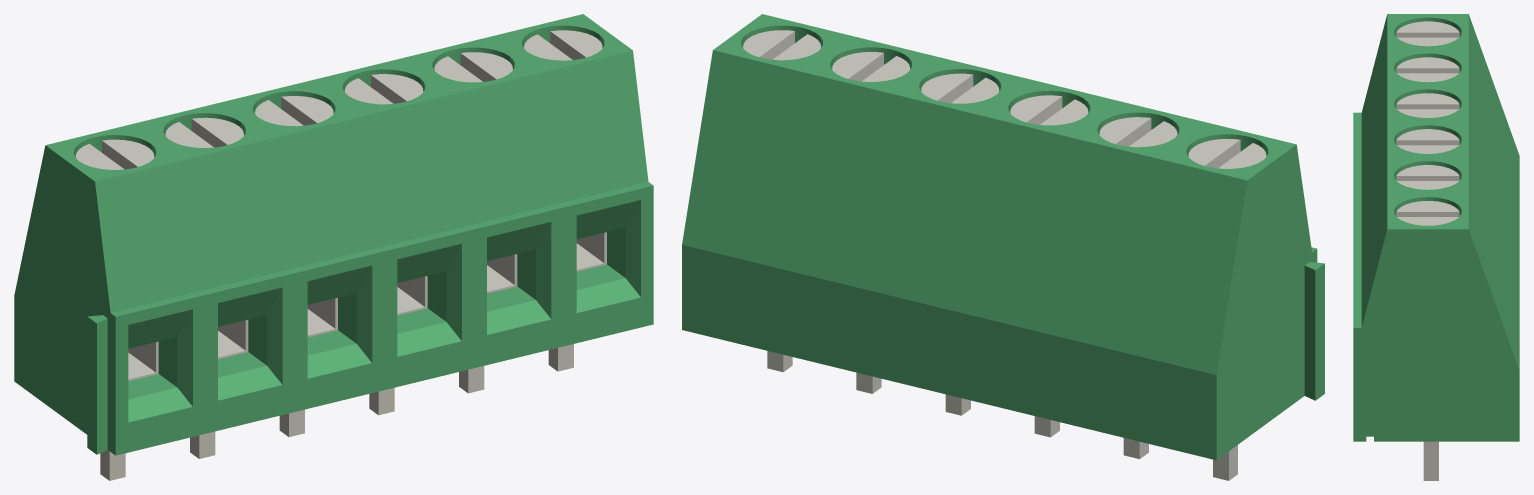
File: kc-terminalblock_phoenix_mkds-1_5-6_1x06_p5.00mm_horizontal.glb
3 renders of one model, left to right at view 1: azimuth 30°, elevation 25°; view 2: azimuth 150°, elevation 25°; view 3: azimuth 270°, elevation 25°, orthographic. The views are drawn at different scales.
Visible parts, largest first — view 1: 0.08333333333333333_0.4166666666666667_0.16666666666666666_0, 0.6666666666666666_0.6666666666666666_0.5833333333333334_0.8; view 2: 0.08333333333333333_0.4166666666666667_0.16666666666666666_0, 0.6666666666666666_0.6666666666666666_0.5833333333333334_0.8; view 3: 0.08333333333333333_0.4166666666666667_0.16666666666666666_0, 0.6666666666666666_0.6666666666666666_0.5833333333333334_0.8.
Boxes of the visible parts, bbox=[...] form: 0.08333333333333333_0.4166666666666667_0.16666666666666666_0: bbox=[14, 14, 653, 455]; 0.6666666666666666_0.6666666666666666_0.5833333333333334_0.8: bbox=[75, 30, 606, 480]; 0.08333333333333333_0.4166666666666667_0.16666666666666666_0: bbox=[682, 14, 1324, 460]; 0.6666666666666666_0.6666666666666666_0.5833333333333334_0.8: bbox=[743, 30, 1266, 480]; 0.08333333333333333_0.4166666666666667_0.16666666666666666_0: bbox=[1353, 14, 1519, 441]; 0.6666666666666666_0.6666666666666666_0.5833333333333334_0.8: bbox=[1396, 21, 1459, 480].
Size of the model in its own units: 3.07 by 1.73 by 0.9799.
